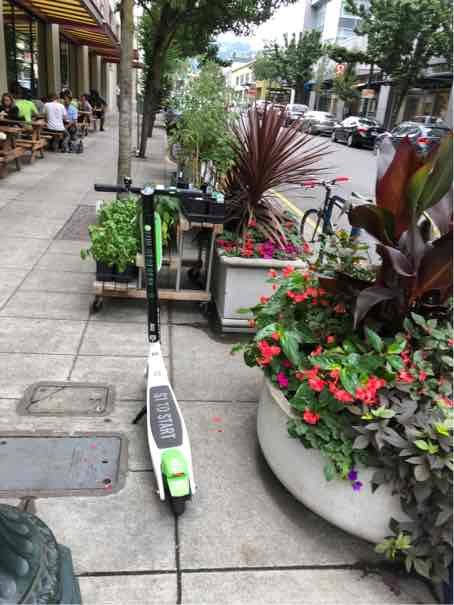scooter: (86, 165, 212, 513)
